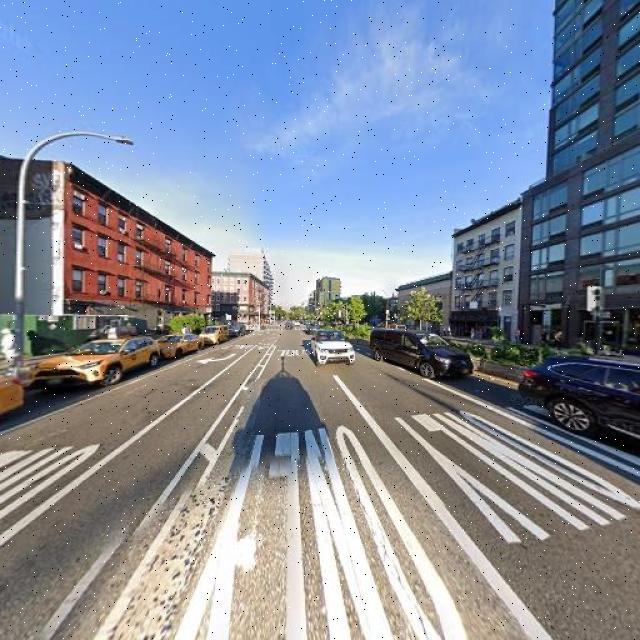Building: (532, 1, 640, 358), (65, 165, 210, 348), (459, 203, 527, 345), (399, 277, 455, 338)
